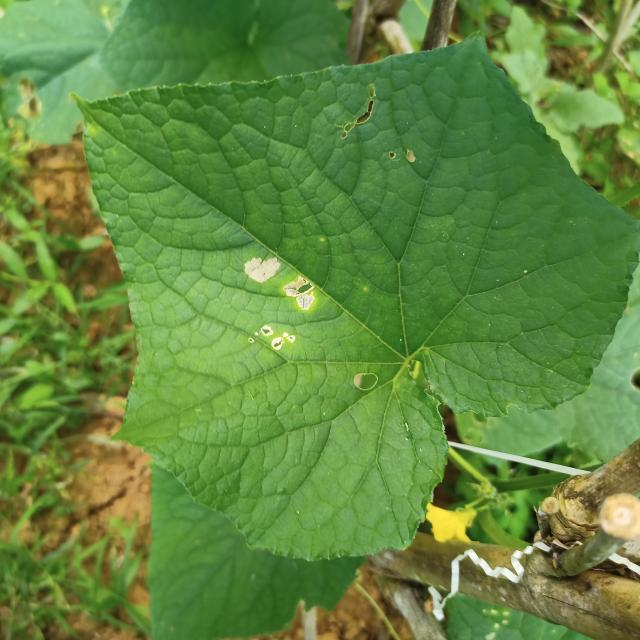disease_cucumber: (240, 252, 318, 355)
